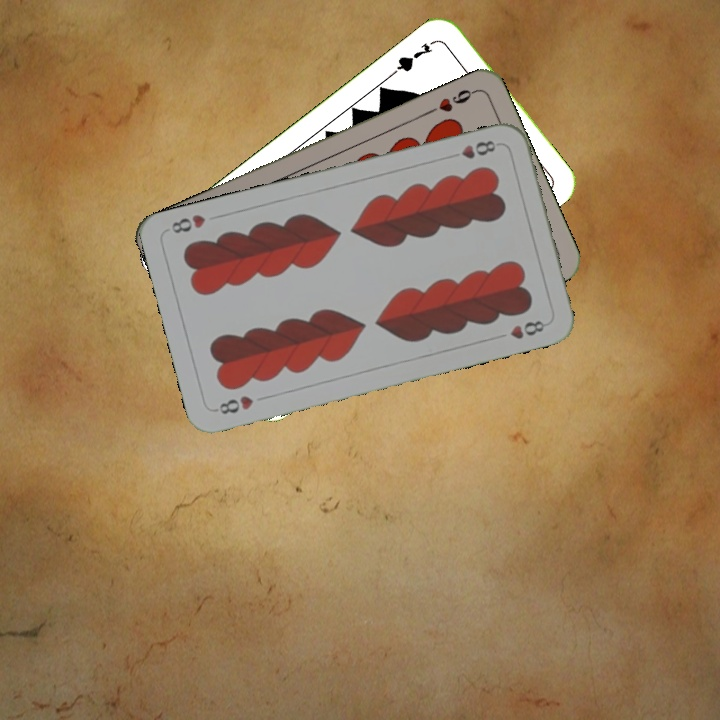G7: (389, 35, 440, 77)
H8: (444, 136, 499, 162), (210, 391, 256, 417)
H9: (423, 85, 479, 117)
